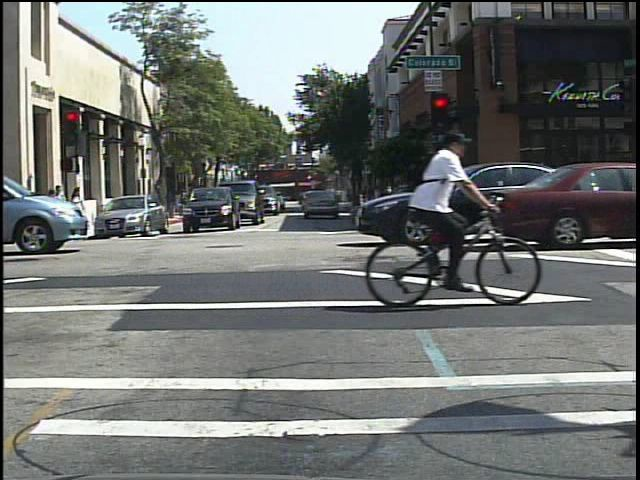person: (394, 122, 484, 301)
